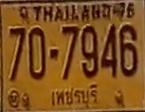0: (28, 27, 45, 79)
4: (100, 24, 116, 76)
6: (119, 24, 137, 76)
7: (9, 27, 26, 79), (62, 26, 78, 78)
9: (81, 26, 97, 77)
PBI: (47, 84, 102, 110)
